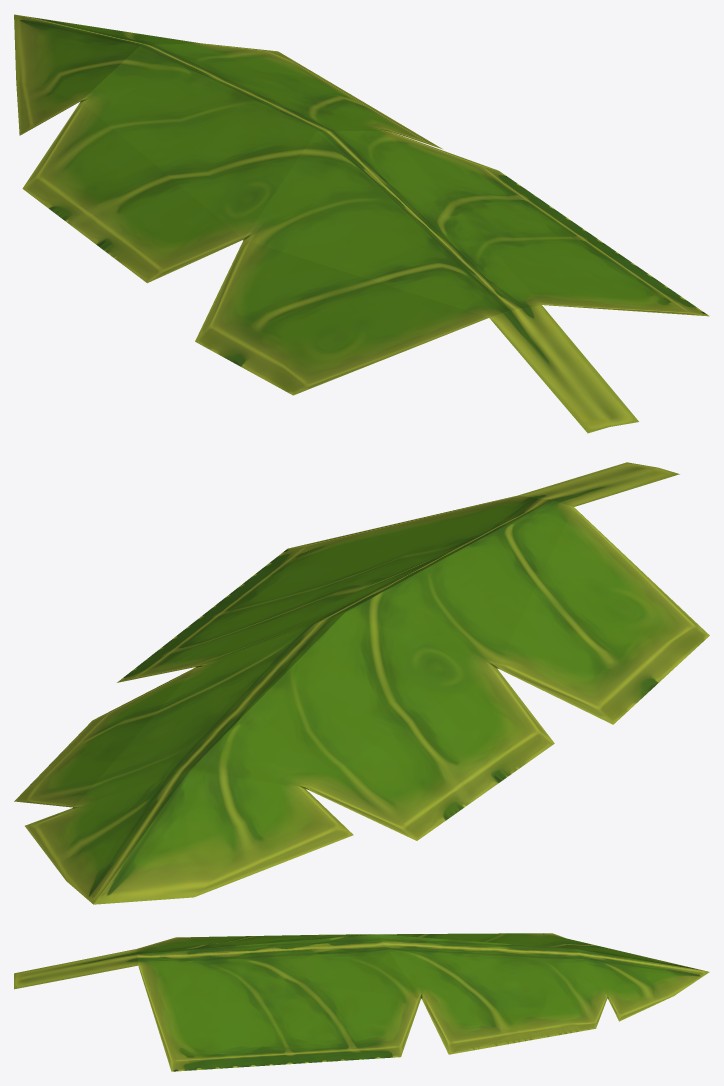
File: leaf_01.gltf
3 renders of one model, top to bottom at view 1: azimuth 30°, elevation 25°; view 2: azimuth 150°, elevation 25°; view 3: azimuth 270°, elevation 25°, orthographic. The views are drawn at different scales.
Parts seen in each view (by area): view 1: Leaf01; view 2: Leaf01; view 3: Leaf01.
Part boxes in pixels (x1,y1,x2,y2): Leaf01: (14,14,709,433); Leaf01: (14,462,709,904); Leaf01: (14,933,709,1071).
Size of the model in its own units: 0.8393 by 0.2244 by 2.
1 material, 1 textured.
